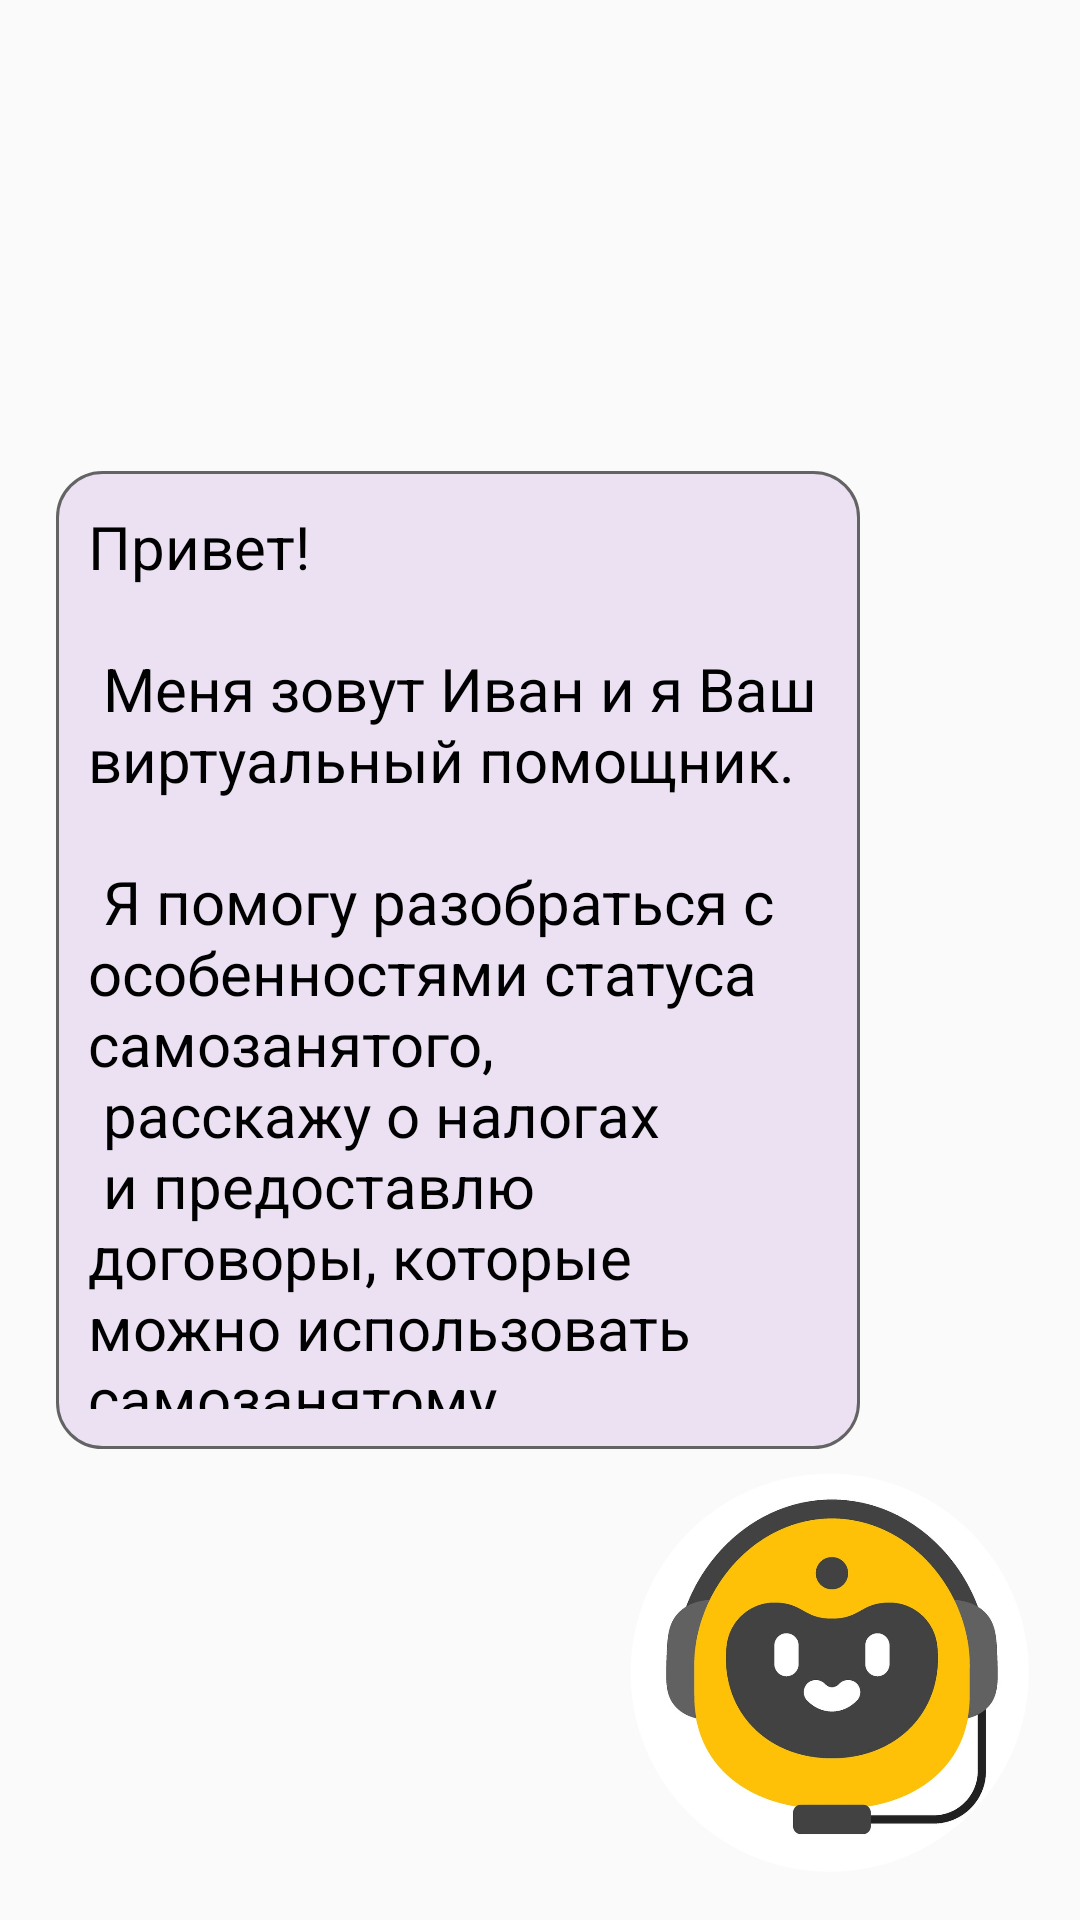

Where icons sit on this 1080w x 1920h app screen, as (x1,y1,x2,y2):
robots face: (666,1499,998,1834)
